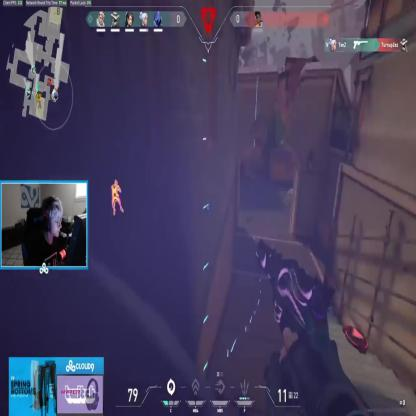enemy: (111, 178, 123, 214)
enemy_head: (114, 179, 118, 187)
